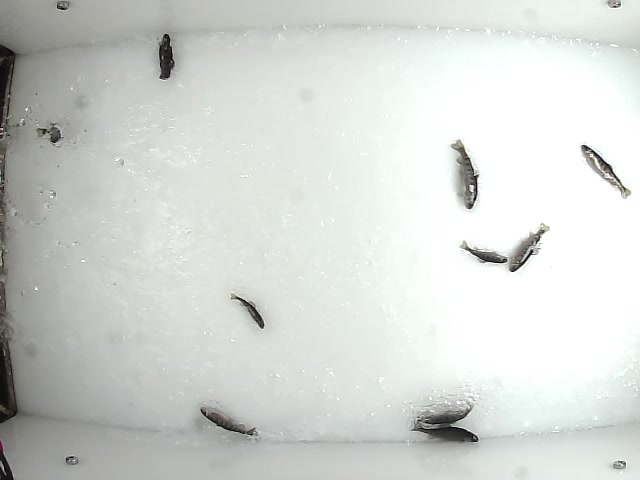fish: (579, 144, 633, 200), (505, 219, 550, 275), (447, 137, 481, 210), (198, 403, 261, 439), (406, 421, 480, 445), (414, 401, 476, 427), (227, 291, 266, 330), (457, 240, 510, 265), (154, 33, 177, 84)
